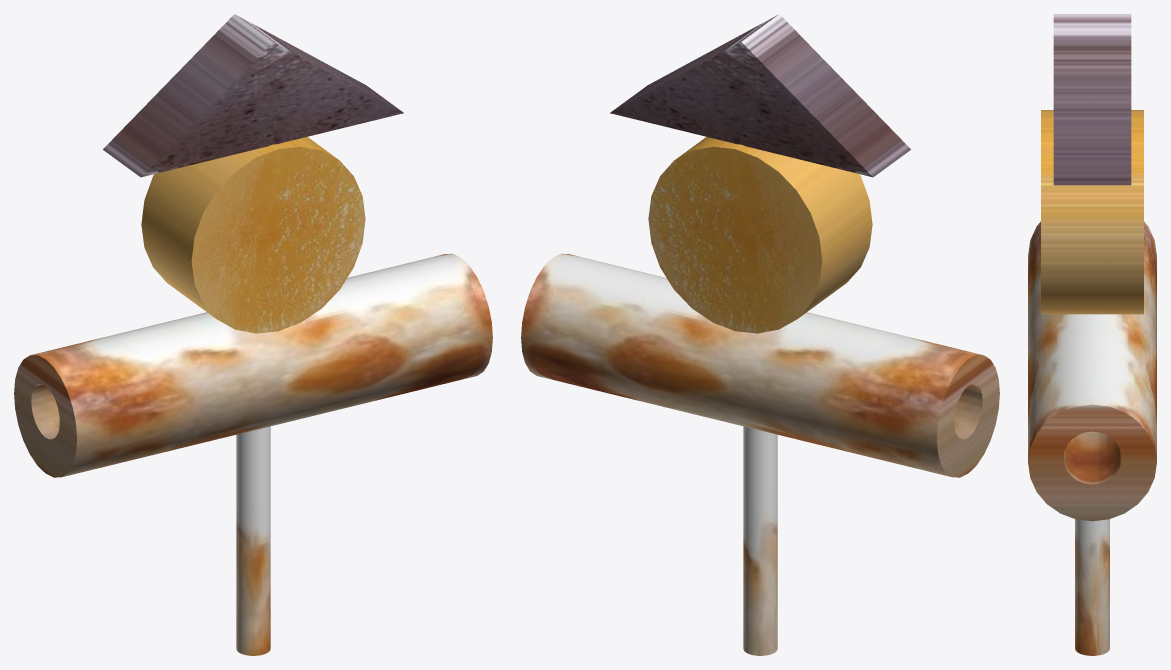
The model's file is ODEN2.fbx.
3 views of the same model, side by side, from view 1: azimuth 30°, elevation 25°; view 2: azimuth 150°, elevation 25°; view 3: azimuth 270°, elevation 25° (orthographic). The views are drawn at different scales.
Visible parts, largest first — view 1: pCylinder7; view 2: pCylinder7; view 3: pCylinder7.
Part boxes in pixels (x1,y1,x2,y2): pCylinder7: (14, 14, 492, 655); pCylinder7: (521, 14, 999, 655); pCylinder7: (1028, 14, 1156, 655).
Bounding box in the file's own units: 6.31 × 9 × 1.66.
Materials: 1 (1 with a texture image).
